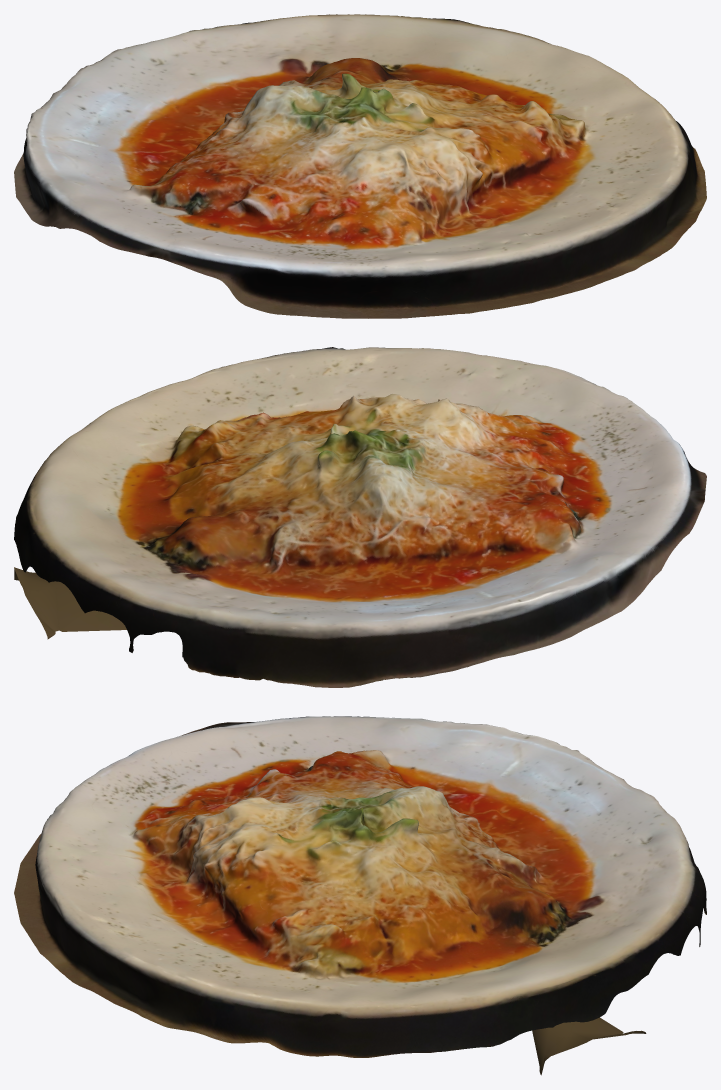
Rendered from Canelones3.glb.
3 renders of one model, top to bottom at view 1: azimuth 30°, elevation 25°; view 2: azimuth 150°, elevation 25°; view 3: azimuth 270°, elevation 25°, orthographic.
Parts seen in each view (by area): view 1: 3DModel; view 2: 3DModel; view 3: 3DModel.
Part boxes in pixels (left/top/right/bottom): 3DModel: left=14, top=14, right=706, bottom=318; 3DModel: left=14, top=347, right=706, bottom=687; 3DModel: left=14, top=716, right=706, bottom=1075.
Size of the model in its own units: 0.9252 by 0.2134 by 0.9252.
1 material, 1 textured.
